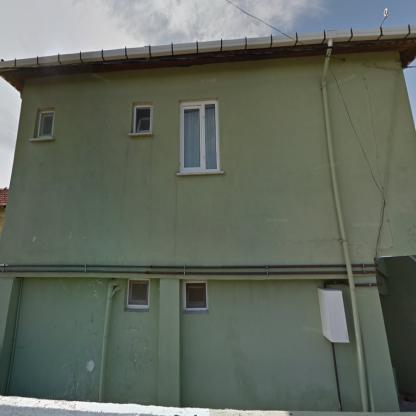window: (184, 103, 217, 170), (134, 106, 150, 132), (130, 282, 148, 303), (38, 112, 53, 136), (186, 284, 204, 304)
